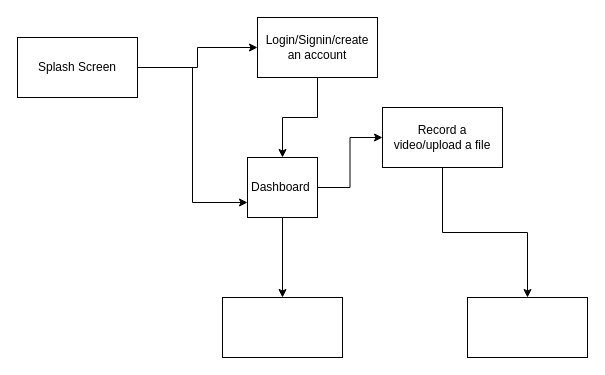
The diagram is 605 pixels wide and 375 high, and some of its shapes have lost their labels. Here are the shapes that lost their labels. From the top down, the centre of each, then its label:
At (x=282, y=327): "FeedBack".
At (x=527, y=327): "Send off a video file".
